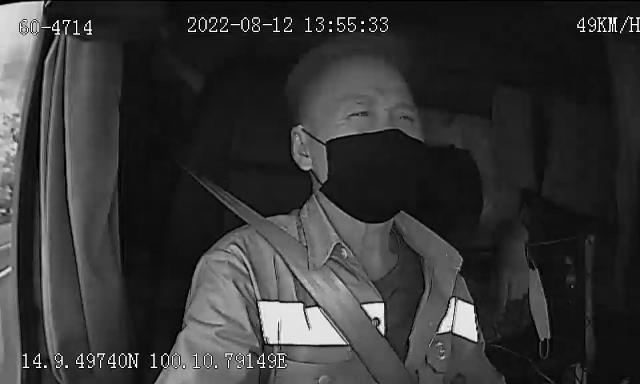SafeDriving: (336, 102, 376, 126), (388, 106, 422, 128)
Seatbelt: (194, 171, 416, 384)
